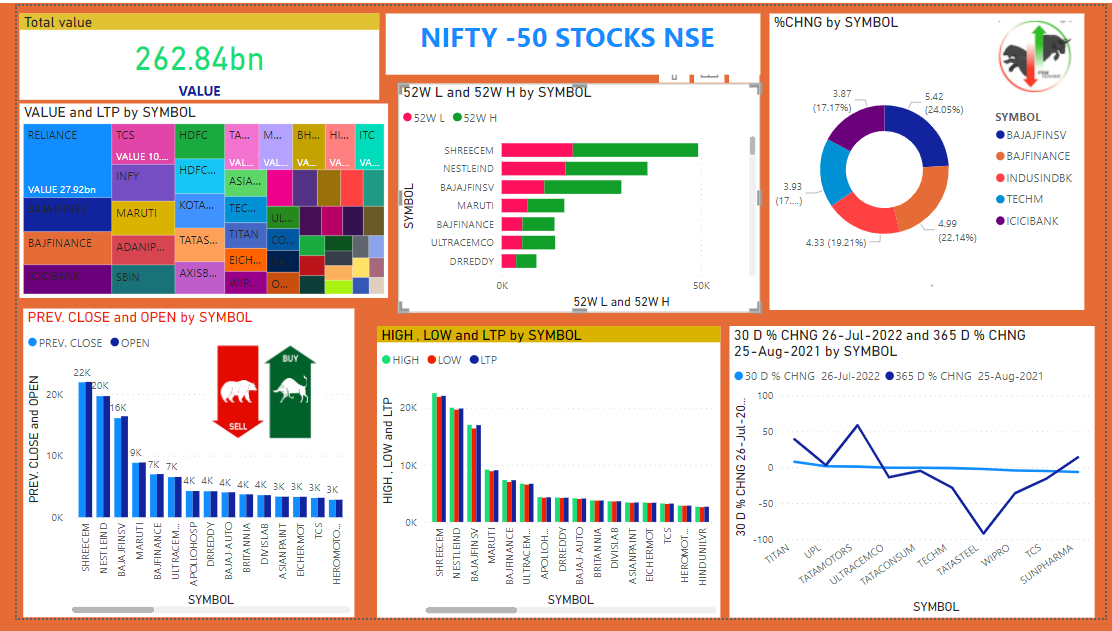

The page's visual inventory and layout, read from the dashboard file:
{"tool":"powerbi","page":{"name":"Dasbords","canvas":[1280,720],"ordinal":0},"visuals":[{"type":"clusteredColumnChart","fields":{"Category":["MW-NIFTY-50-30-Aug-2022 (1) 040922.SYMBOL "],"Y":["Sum(MW-NIFTY-50-30-Aug-2022 (1) 040922.HIGH )","Sum(MW-NIFTY-50-30-Aug-2022 (1) 040922.LOW )","Sum(MW-NIFTY-50-30-Aug-2022 (1) 040922.LTP )"]},"box":[423.3,360.3,394.5,360.3],"z":0},{"type":"clusteredColumnChart","fields":{"Category":["MW-NIFTY-50-30-Aug-2022 (1) 040922.SYMBOL "],"Y":["Sum(MW-NIFTY-50-30-Aug-2022 (1) 040922.PREV. CLOSE )","Sum(MW-NIFTY-50-30-Aug-2022 (1) 040922.OPEN )"]},"box":[9.6,360.3,389,360.3],"z":1000},{"type":"barChart","fields":{"Category":["MW-NIFTY-50-30-Aug-2022 (1) 040922.SYMBOL "],"Y":["Sum(MW-NIFTY-50-30-Aug-2022 (1) 040922.52W L )","Sum(MW-NIFTY-50-30-Aug-2022 (1) 040922.52W H )"]},"box":[438.4,101.4,454.8,242.5],"z":2000},{"type":"treemap","fields":{"Values":["Sum(MW-NIFTY-50-30-Aug-2022 (1) 040922.VALUE)","Sum(MW-NIFTY-50-30-Aug-2022 (1) 040922.LTP)"],"Group":["MW-NIFTY-50-30-Aug-2022 (1) 040922.SYMBOL "]},"box":[0,115.3,433.3,229.2],"z":3000},{"type":"card","title":"Total value","fields":{"Values":["Sum(MW-NIFTY-50-30-Aug-2022 (1) 040922.VALUE)"]},"box":[9.6,2.7,408.2,101.4],"z":4000},{"type":"textbox","box":[441.7,18.1,451.4,70.8],"z":5000},{"type":"lineChart","fields":{"Category":["MW-NIFTY-50-30-Aug-2022 (1) 040922.SYMBOL"],"Y":["Sum(MW-NIFTY-50-30-Aug-2022 (1) 040922.30 D % CHNG  26-Jul-2022)","Sum(MW-NIFTY-50-30-Aug-2022 (1) 040922.365 D % CHNG  25-Aug-2021)"]},"box":[835.6,360.3,431.5,360.3],"z":6000},{"type":"donutChart","fields":{"Category":["MW-NIFTY-50-30-Aug-2022 (1) 040922.SYMBOL"],"Y":["Sum(MW-NIFTY-50-30-Aug-2022 (1) 040922.%CHNG)"]},"box":[908.2,17.8,371.2,327.4],"z":7000}]}

Visuals, with their boxes in screenshot pixels (x1, y1, x2, y2), scaled from the page's 1280x720 canvas onto the 1112x631 screenshot:
clusteredColumnChart - MW-NIFTY-50-30-Aug-2022 (1) 040922.SYMBOL  x Sum(MW-NIFTY-50-30-Aug-2022 (1) 040922.HIGH ): 368/316/710/630
clusteredColumnChart - MW-NIFTY-50-30-Aug-2022 (1) 040922.SYMBOL  x Sum(MW-NIFTY-50-30-Aug-2022 (1) 040922.PREV. CLOSE ): 8/316/346/630
barChart - MW-NIFTY-50-30-Aug-2022 (1) 040922.SYMBOL  x Sum(MW-NIFTY-50-30-Aug-2022 (1) 040922.52W L ): 381/89/776/301
treemap - Sum(MW-NIFTY-50-30-Aug-2022 (1) 040922.VALUE) x Sum(MW-NIFTY-50-30-Aug-2022 (1) 040922.LTP): 0/101/376/302
"Total value" card: 8/2/363/91
textbox: 384/16/776/78
lineChart - MW-NIFTY-50-30-Aug-2022 (1) 040922.SYMBOL x Sum(MW-NIFTY-50-30-Aug-2022 (1) 040922.30 D % CHNG  26-Jul-2022): 726/316/1101/630
donutChart - MW-NIFTY-50-30-Aug-2022 (1) 040922.SYMBOL x Sum(MW-NIFTY-50-30-Aug-2022 (1) 040922.%CHNG): 789/16/1111/303
